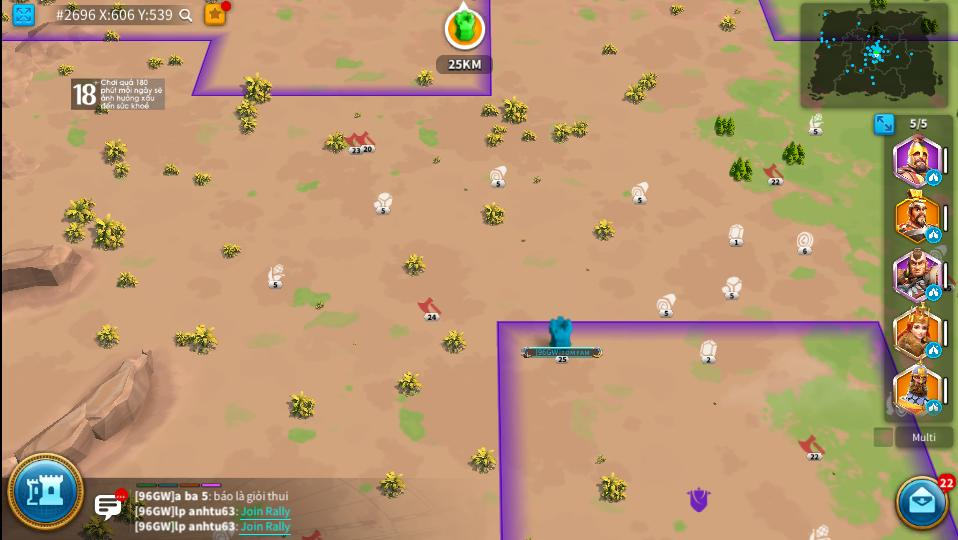gem-z-out: (701, 339, 717, 363), (728, 223, 743, 246)
march_idle: (925, 228, 942, 242), (926, 170, 940, 185), (927, 400, 941, 415), (926, 285, 940, 299), (928, 343, 940, 357)
